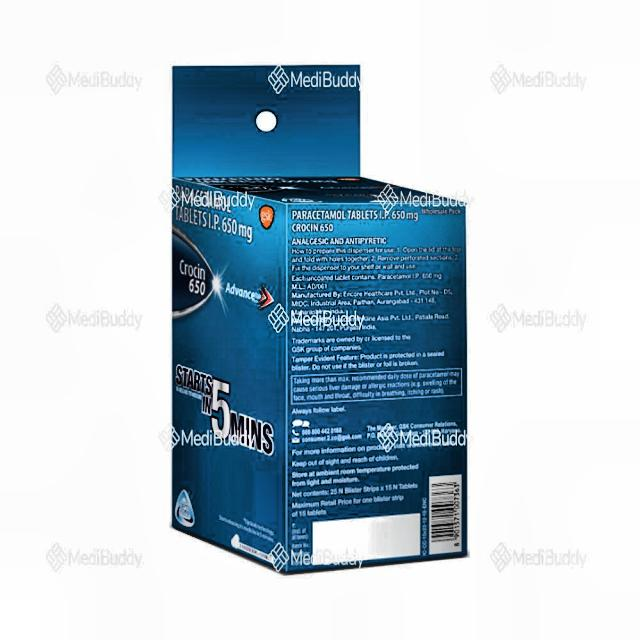Crocin: (172, 221, 217, 337)
